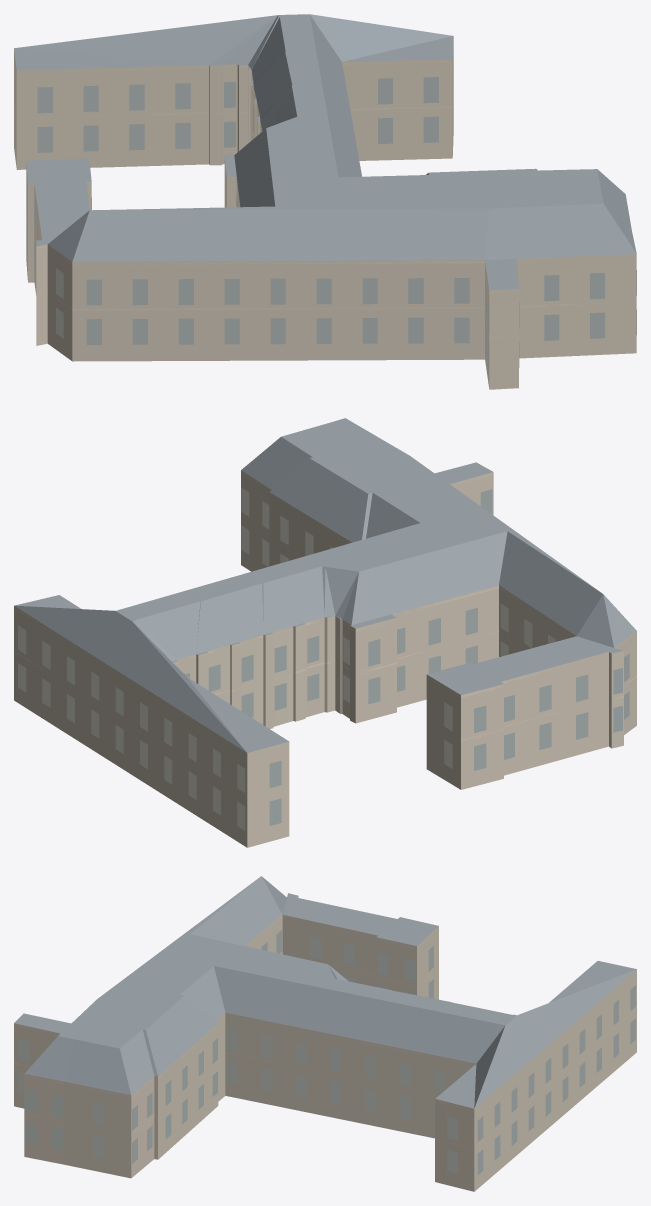
The model's file is detail.glb.
3 renders of one model, top to bottom at view 1: azimuth 30°, elevation 25°; view 2: azimuth 150°, elevation 25°; view 3: azimuth 270°, elevation 25°, orthographic. The views are drawn at different scales.
Parts seen in each view (by area): view 1: stone, roof, window, trim; view 2: stone, roof, window, trim; view 3: stone, roof, window, trim.
Boxes of the visible parts, x1=… form: stone: x1=14, y1=37, x2=636, y2=389; roof: x1=14, y1=14, x2=636, y2=290; window: x1=15, y1=65, x2=636, y2=371; trim: x1=15, y1=49, x2=633, y2=338; stone: x1=14, y1=470, x2=636, y2=847; roof: x1=14, y1=418, x2=636, y2=752; window: x1=18, y1=487, x2=629, y2=830; trim: x1=14, y1=472, x2=636, y2=798; stone: x1=14, y1=896, x2=636, y2=1191; roof: x1=14, y1=876, x2=636, y2=1108; window: x1=18, y1=930, x2=635, y2=1174; trim: x1=14, y1=897, x2=636, y2=1148.
Bounding box in the file's own units: 60.05 × 15 × 73.3.
